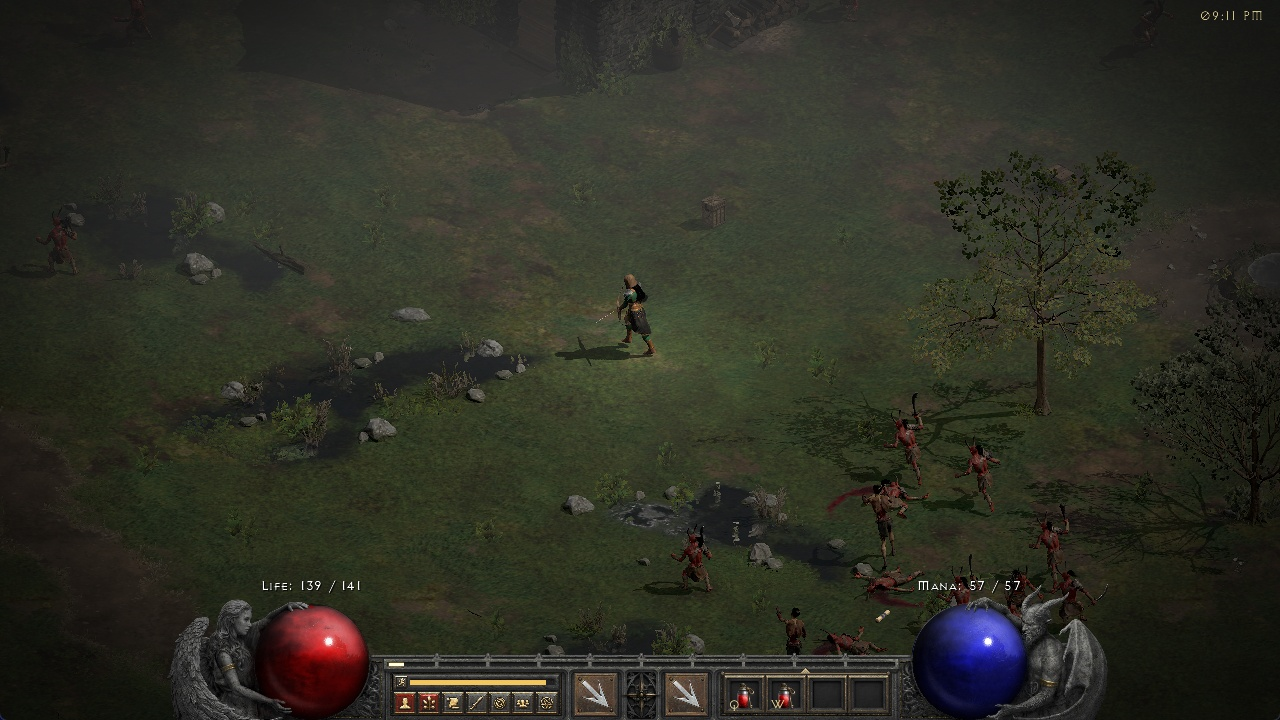fallen: (959, 435, 1005, 509), (891, 398, 931, 472), (672, 526, 714, 591), (1025, 503, 1075, 556), (42, 208, 79, 279), (1062, 568, 1099, 608), (1004, 567, 1038, 586), (944, 566, 976, 585)
